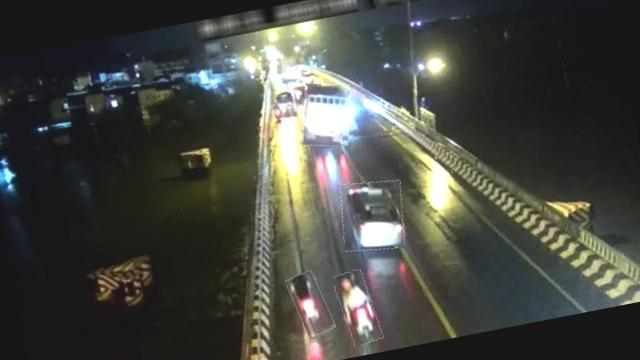Bike: (334, 268, 382, 346), (287, 269, 334, 339), (266, 103, 282, 124)
Car: (336, 175, 410, 256)
Truck: (296, 78, 358, 151)
